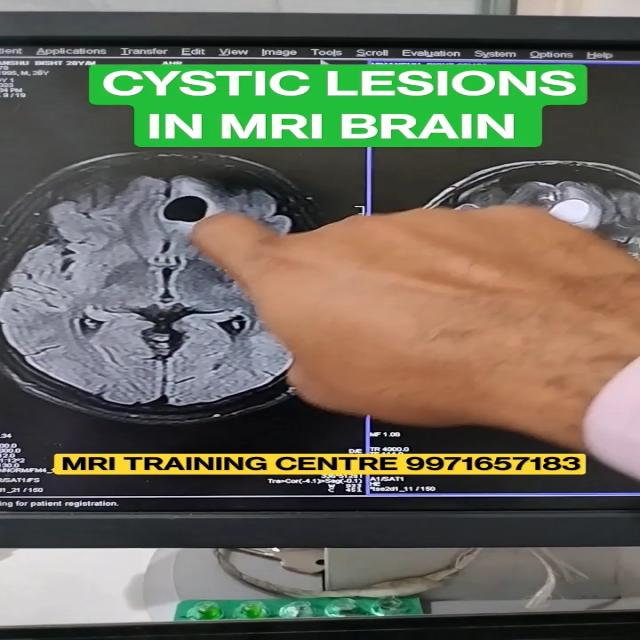tumor: (140, 176, 215, 250)
